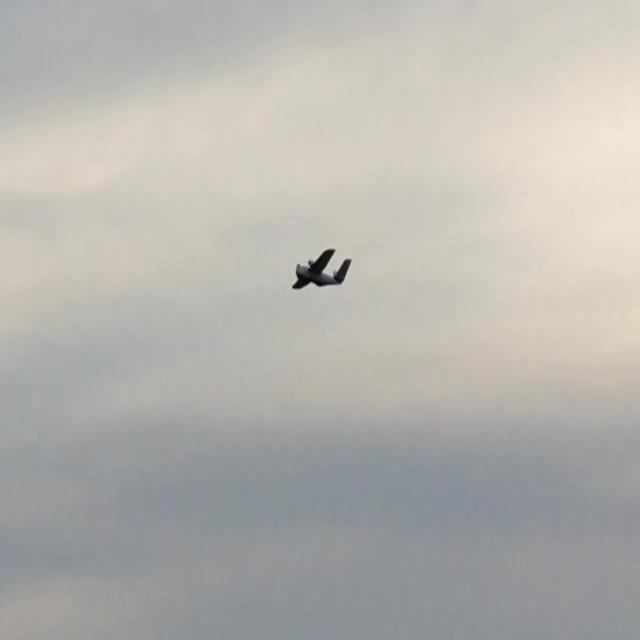iha: (292, 248, 352, 290)
